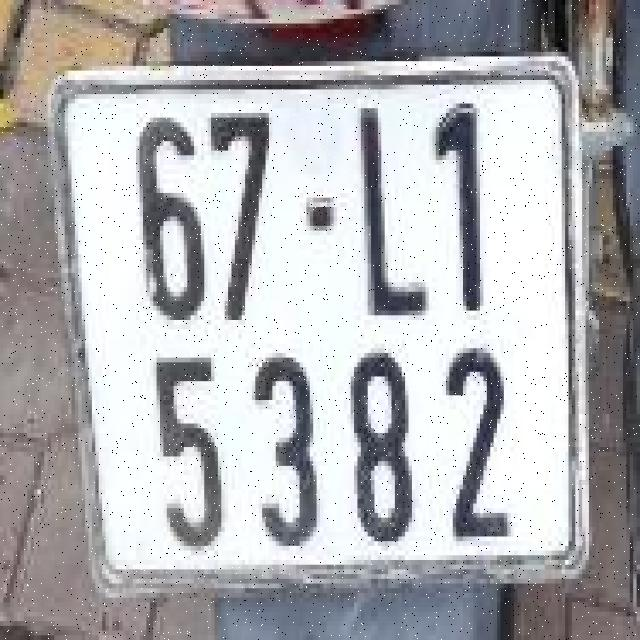1: (431, 96, 492, 318)
2: (432, 346, 521, 543)
3: (242, 339, 327, 560)
5: (136, 336, 228, 553)
6: (124, 106, 213, 332)
7: (213, 103, 281, 330)
8: (339, 334, 420, 555)
L: (340, 82, 426, 322)
